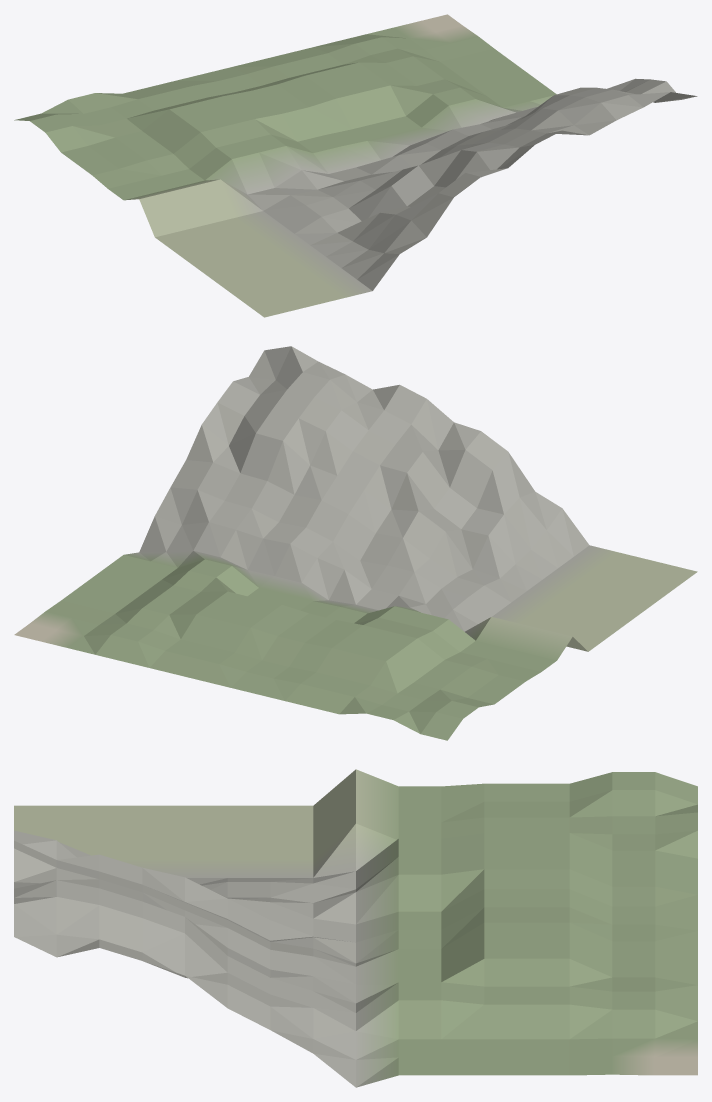
3 views of the same model, one above another, from view 1: azimuth 30°, elevation 25°; view 2: azimuth 150°, elevation 25°; view 3: azimuth 270°, elevation 25° (orthographic). The views are drawn at different scales.
Size of the model in its own units: 32 by 8.91 by 32.
